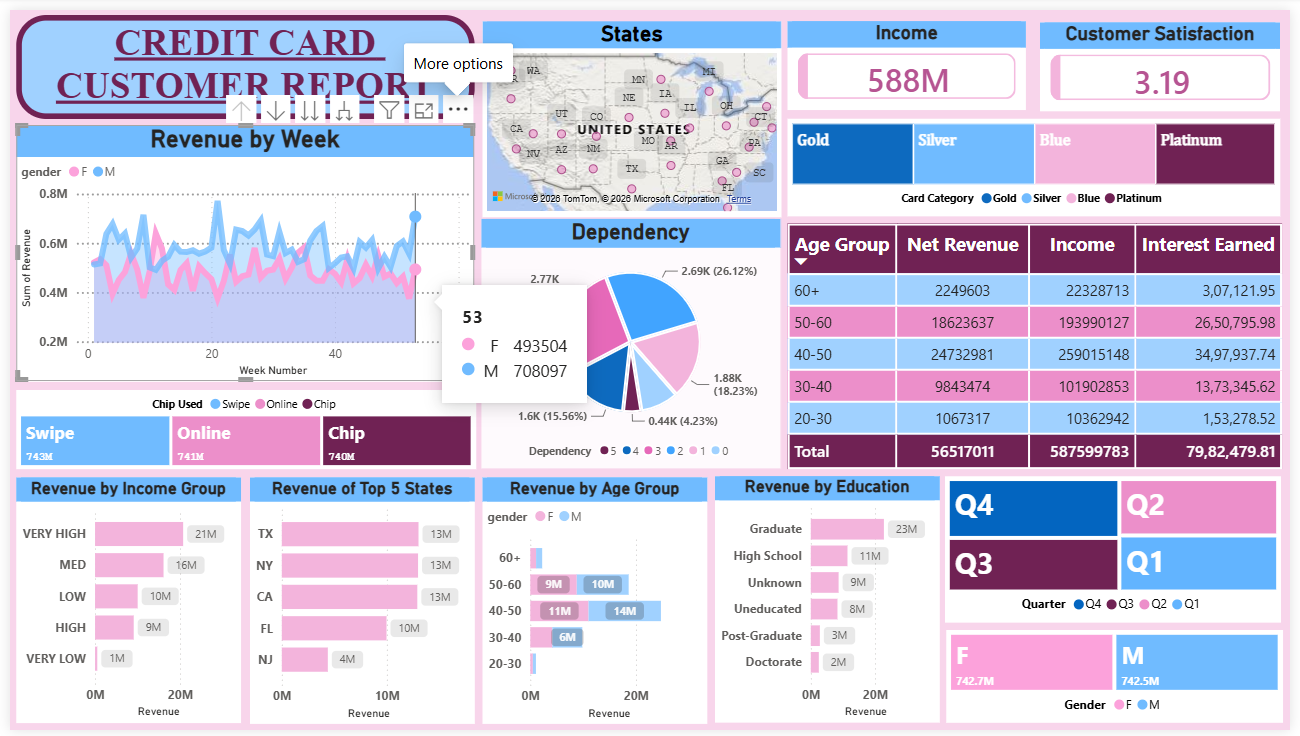

The page's visual inventory and layout, read from the dashboard file:
{"tool":"powerbi","page":{"name":"Credit Card Customer","canvas":[1280,720],"ordinal":1},"visuals":[{"type":"textbox","box":[6.2,5,458.8,103.8],"z":0},{"type":"barChart","title":"Revenue by Income Group","fields":{"Y":["Sum(public creditcard_detail.Revenue)"],"Category":["public customer_detail.IncomeGroup"]},"box":[6.7,467.8,224.4,245.6],"z":1000},{"type":"tableEx","fields":{"Values":["public customer_detail.AgeGroup","Sum(public creditcard_detail.Revenue)","Sum(public customer_detail.income)","Sum(public creditcard_detail.interest_earned)"]},"box":[771.2,209.4,507.9,258.6],"z":2000},{"type":"cardVisual","title":"Customer Satisfaction","fields":{"Data":["Avg(public customer_detail.cust_satisfaction_score)"]},"box":[1030,13.1,240,88.5],"z":3000},{"type":"cardVisual","title":"Income","fields":{"Data":["Sum(public customer_detail.income)"]},"box":[777.7,11.5,238.5,88.5],"z":4000},{"type":"treemap","fields":{"Group":["public creditcard_detail.qtr"],"Values":["Avg(public creditcard_detail.client_num)"]},"box":[935.4,466.7,336.4,146.5],"z":5000},{"type":"treemap","fields":{"Group":["public customer_detail.gender"],"Values":["Avg(public creditcard_detail.client_num)"]},"box":[935.8,620.1,336.6,93],"z":6000},{"type":"treemap","fields":{"Group":["public creditcard_detail.card_category"],"Values":["Avg(public creditcard_detail.client_num)"]},"box":[777.7,108.3,492.4,97.5],"z":7000},{"type":"lineChart","title":"Revenue by Week","fields":{"Y":["Sum(public creditcard_detail.Revenue)"],"Series":["public customer_detail.gender"],"Category":["public creditcard_detail.week_number","public creditcard_detail.week_start_date.Variation.Date Hierarchy.Year","public creditcard_detail.week_start_date.Variation.Date Hierarchy.Quarter"]},"box":[6.7,115,457.5,256.7],"z":8000},{"type":"barChart","title":"Revenue by Age Group","fields":{"Y":["Sum(public creditcard_detail.Revenue)"],"Category":["public customer_detail.AgeGroup"],"Series":["public customer_detail.gender"]},"box":[472.2,467.8,224.4,246.7],"z":9000},{"type":"barChart","title":"Revenue by Education","fields":{"Y":["Sum(public creditcard_detail.Revenue)"],"Category":["public customer_detail.education_level"]},"box":[704.4,466.7,224.4,246.7],"z":10000},{"type":"barChart","title":"Revenue of Top 5 States","fields":{"Y":["Sum(public creditcard_detail.Revenue)"],"Category":["public customer_detail.state_cd"]},"box":[240,467.8,224.4,246.7],"z":11000},{"type":"map","title":"States","fields":{"Category":["public customer_detail.state_cd"]},"box":[472.7,11,298.7,195],"z":12000},{"type":"pieChart","title":"Dependency","fields":{"Category":["public customer_detail.dependent_count"],"Y":["CountNonNull(public customer_detail.gender)"]},"box":[471.8,209.2,298.9,249.6],"z":13000},{"type":"treemap","fields":{"Group":["public creditcard_detail.use_chip"],"Values":["Avg(public creditcard_detail.client_num)"]},"box":[6.2,379.4,459.8,79.4],"z":14000}]}

Visuals, with their boxes on the page's 1280x720 design canvas (x1, y1, x2, y2). These are canvas units, not pixel positions in the 1300x736 screenshot, which may show the page scaled, cropped or inside an application window:
textbox: 6/5/465/109
"Revenue by Income Group" barChart: 7/468/231/713
tableEx - public customer_detail.AgeGroup x Sum(public creditcard_detail.Revenue): 771/209/1279/468
"Customer Satisfaction" cardVisual: 1030/13/1270/102
"Income" cardVisual: 778/12/1016/100
treemap - public creditcard_detail.qtr x Avg(public creditcard_detail.client_num): 935/467/1272/613
treemap - public customer_detail.gender x Avg(public creditcard_detail.client_num): 936/620/1272/713
treemap - public creditcard_detail.card_category x Avg(public creditcard_detail.client_num): 778/108/1270/206
"Revenue by Week" lineChart: 7/115/464/372
"Revenue by Age Group" barChart: 472/468/697/714
"Revenue by Education" barChart: 704/467/929/713
"Revenue of Top 5 States" barChart: 240/468/464/714
"States" map: 473/11/771/206
"Dependency" pieChart: 472/209/771/459
treemap - public creditcard_detail.use_chip x Avg(public creditcard_detail.client_num): 6/379/466/459
